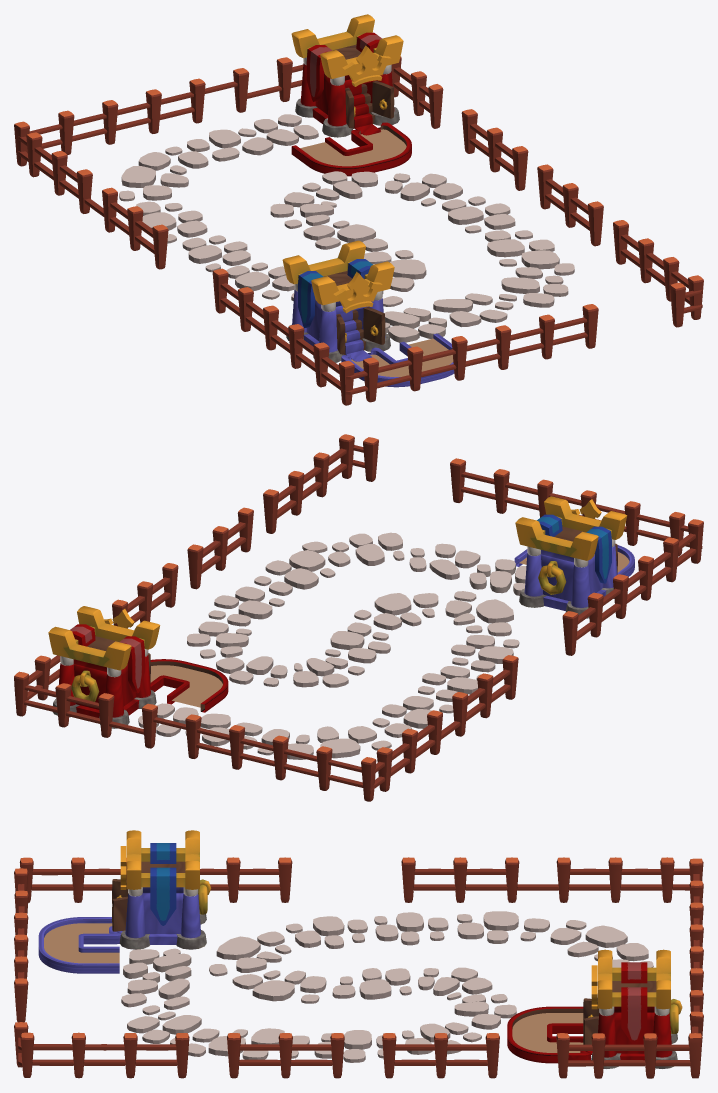
Rendered from yeni_map_design.fbx.
3 renders of one model, top to bottom at view 1: azimuth 30°, elevation 25°; view 2: azimuth 150°, elevation 25°; view 3: azimuth 270°, elevation 25°, orthographic. The views are drawn at different scales.
Visible parts, largest first — view 1: Cİt.001, YOL5, Plane.004, Plane.046, BlueSpawn.002, BlueSpawn.001; view 2: Cİt.001, YOL5, Plane.046, Plane.004, BlueSpawn.002, BlueSpawn.001; view 3: Cİt.001, YOL5, Plane.046, Plane.004, BlueSpawn.001, BlueSpawn.002.
Part boxes in pixels (x1,y1,x2,y2): Cİt.001: (14,56,703,405); YOL5: (119,114,574,342); Plane.004: (291,14,403,137); Plane.046: (282,240,394,362); BlueSpawn.002: (291,122,411,176); BlueSpawn.001: (341,333,454,387); Cİt.001: (14,434,703,801); YOL5: (138,532,526,759); Plane.046: (515,496,627,618); Plane.004: (48,606,160,728); BlueSpawn.002: (150,659,228,712); BlueSpawn.001: (514,545,634,576); Cİt.001: (14,857,703,1078); YOL5: (121,911,653,1062); Plane.046: (109,830,211,949); Plane.004: (580,949,682,1068); BlueSpawn.001: (38,917,121,973); BlueSpawn.002: (507,1006,590,1063).
Size of the model in its own units: 3504 by 798 by 5618.
